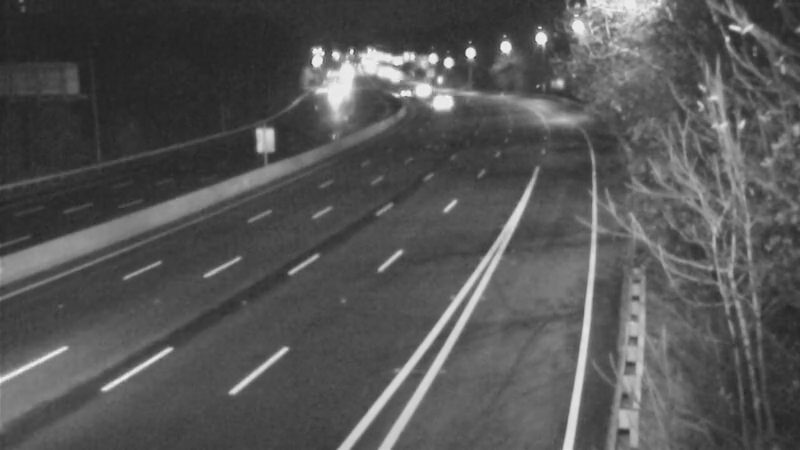vehicle: (400, 63, 450, 113), (379, 70, 429, 120), (413, 80, 463, 130)
